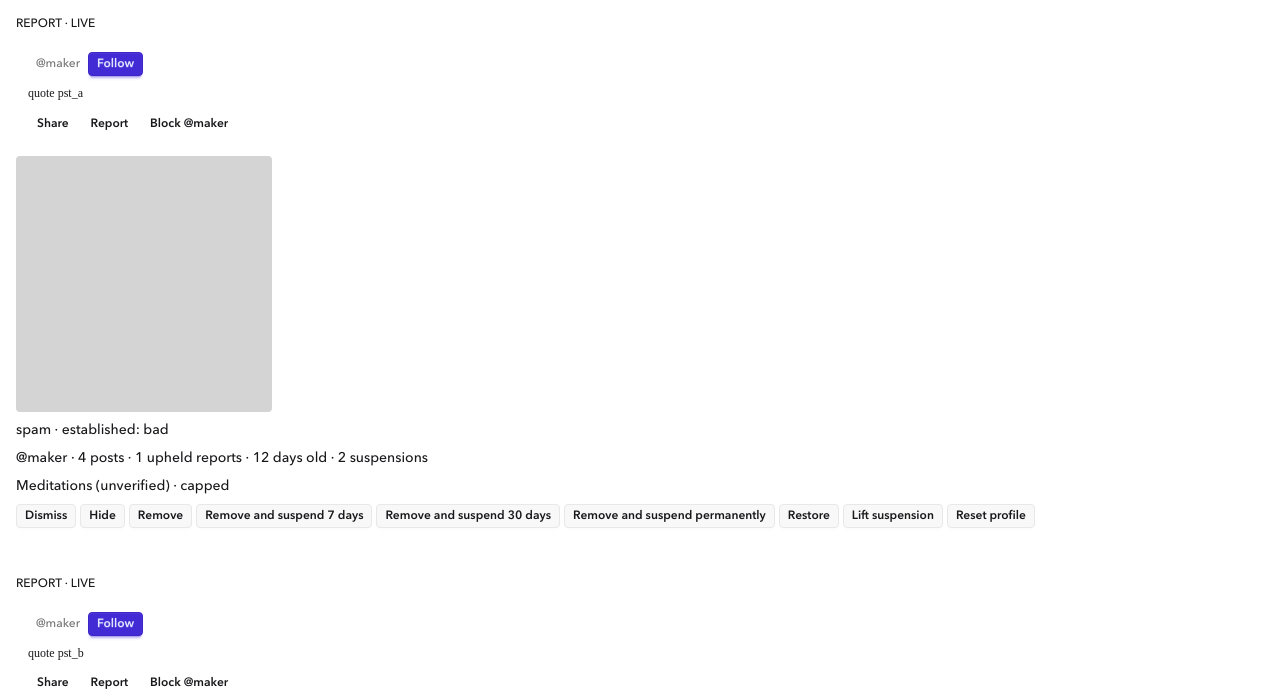
Test: ModerationQueue › posts an action, replaces the item, then drops it when it leaves
Click the button "Hide". click: (103, 516)
box: [80,504,125,528]
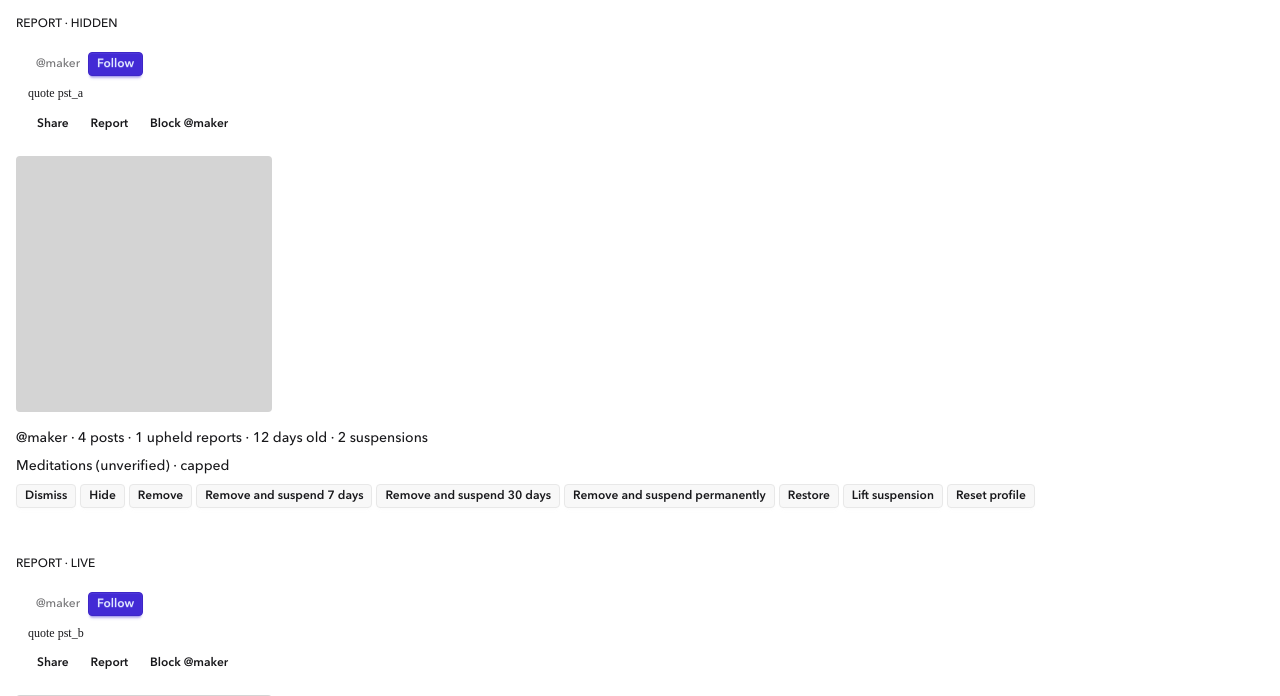
Expected: the text "report · hidden" is shown, [16,18,118,30]
Click the button "Remove and suspend 30 days". click: (468, 496)
box: [376,484,560,508]
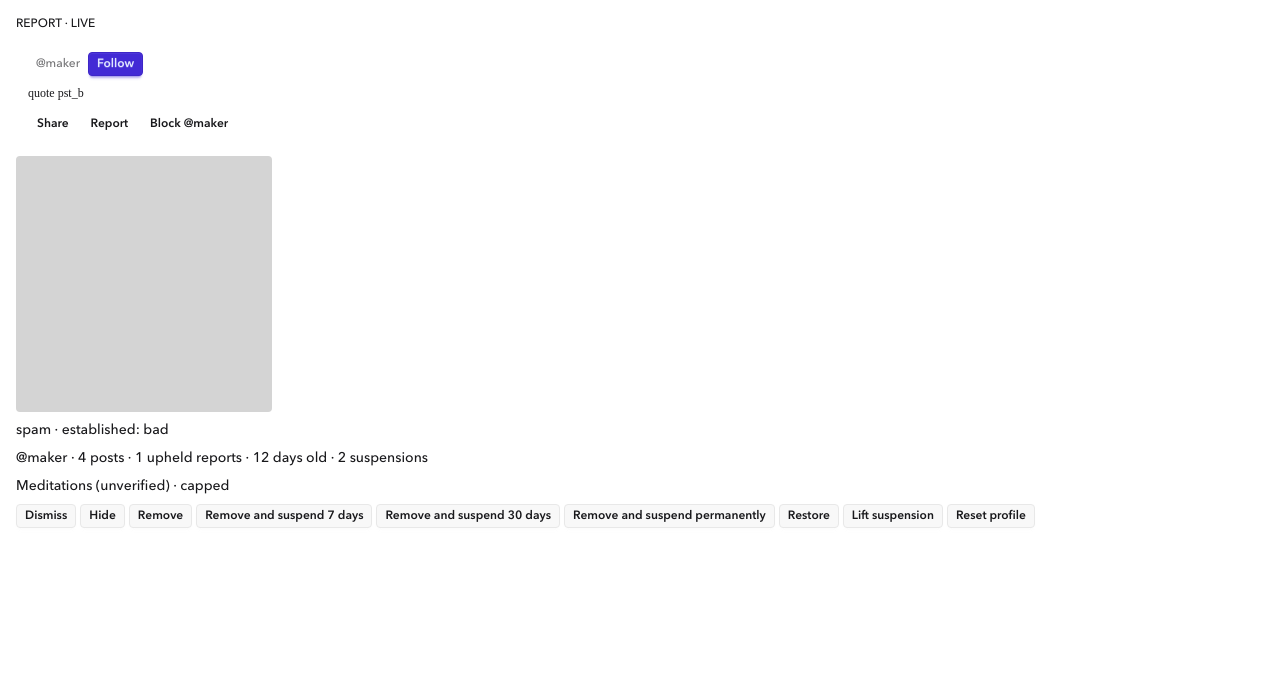
Expected: the text "pst_a" is gone
